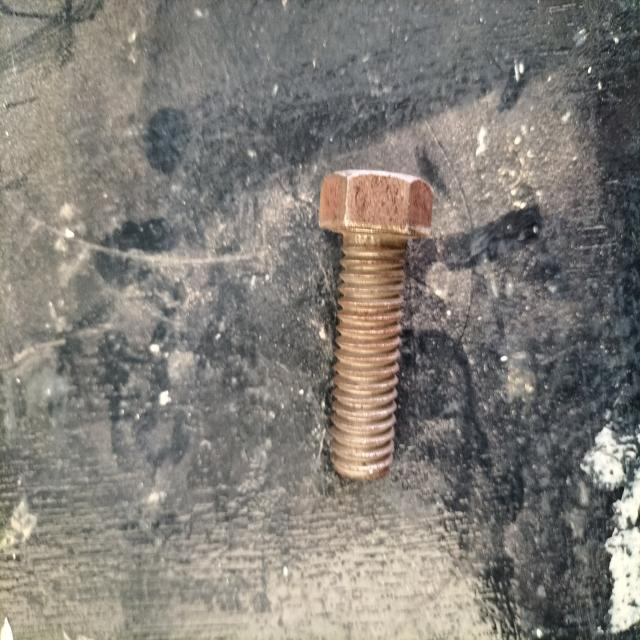bolt: (319, 169, 433, 484)
